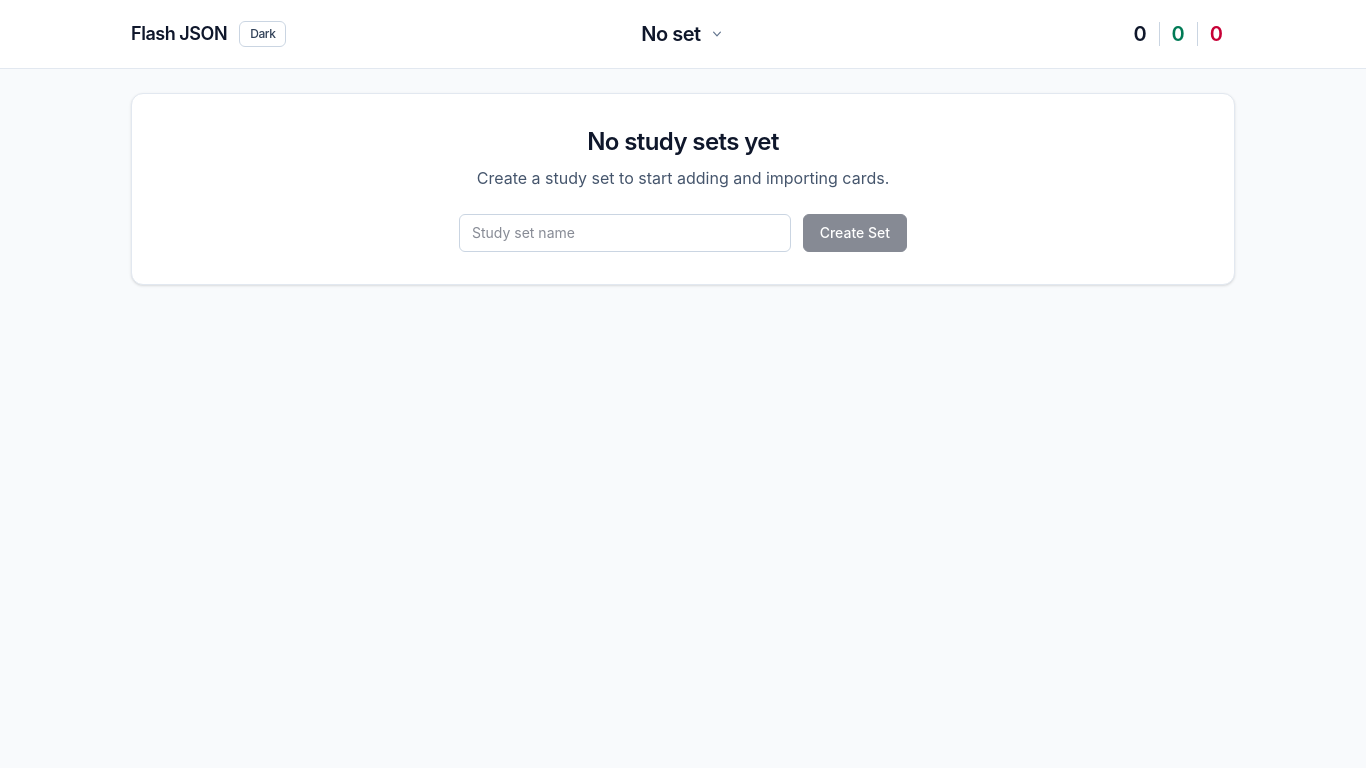
FlashcardApp with study sets › creates a set from the empty state
The width and height of the screenshot is (1366, 768).
Expected: the heading "No study sets yet" is shown, [587, 127, 779, 156]
Type "Fresh" into the field labelled "Study set name" at coordinates (625, 233), box [459, 214, 791, 252]
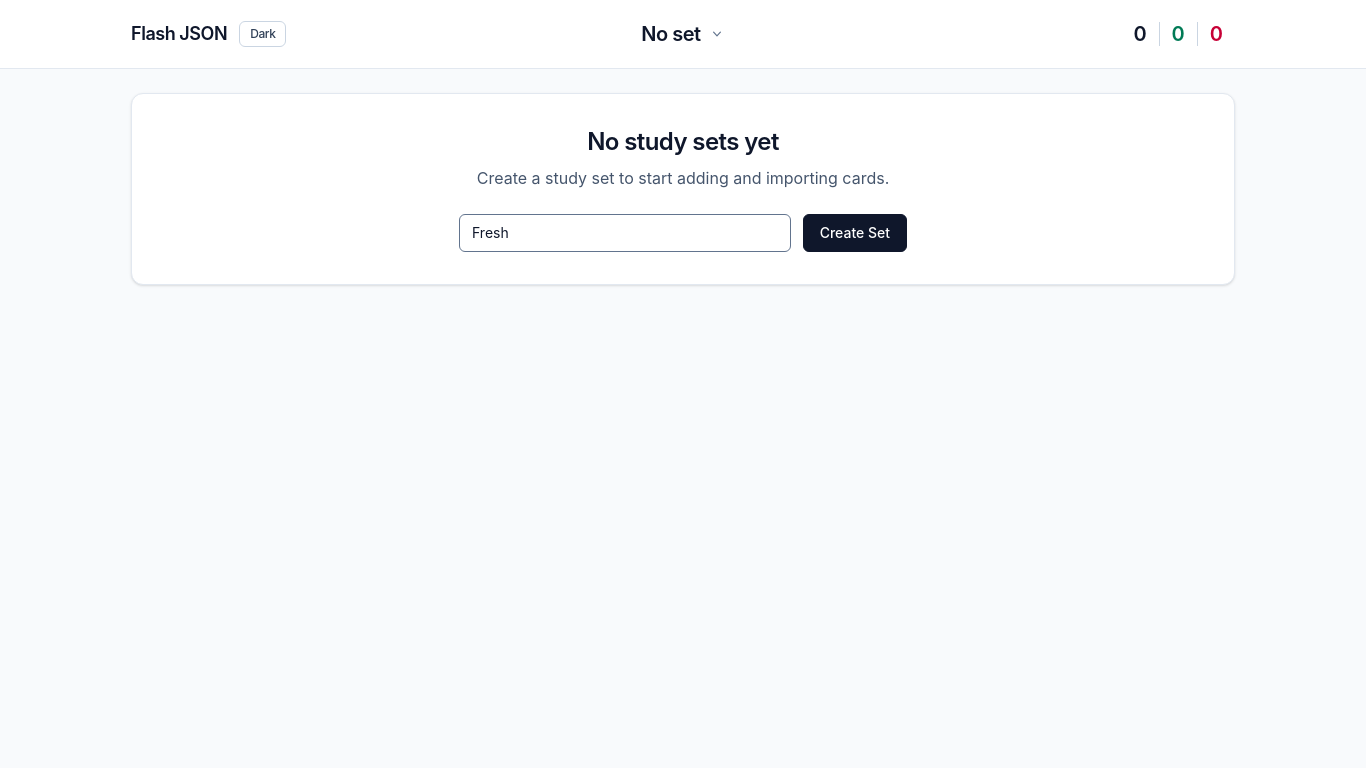
Click the button "Create Set" at coordinates (855, 233), box [803, 214, 907, 252]
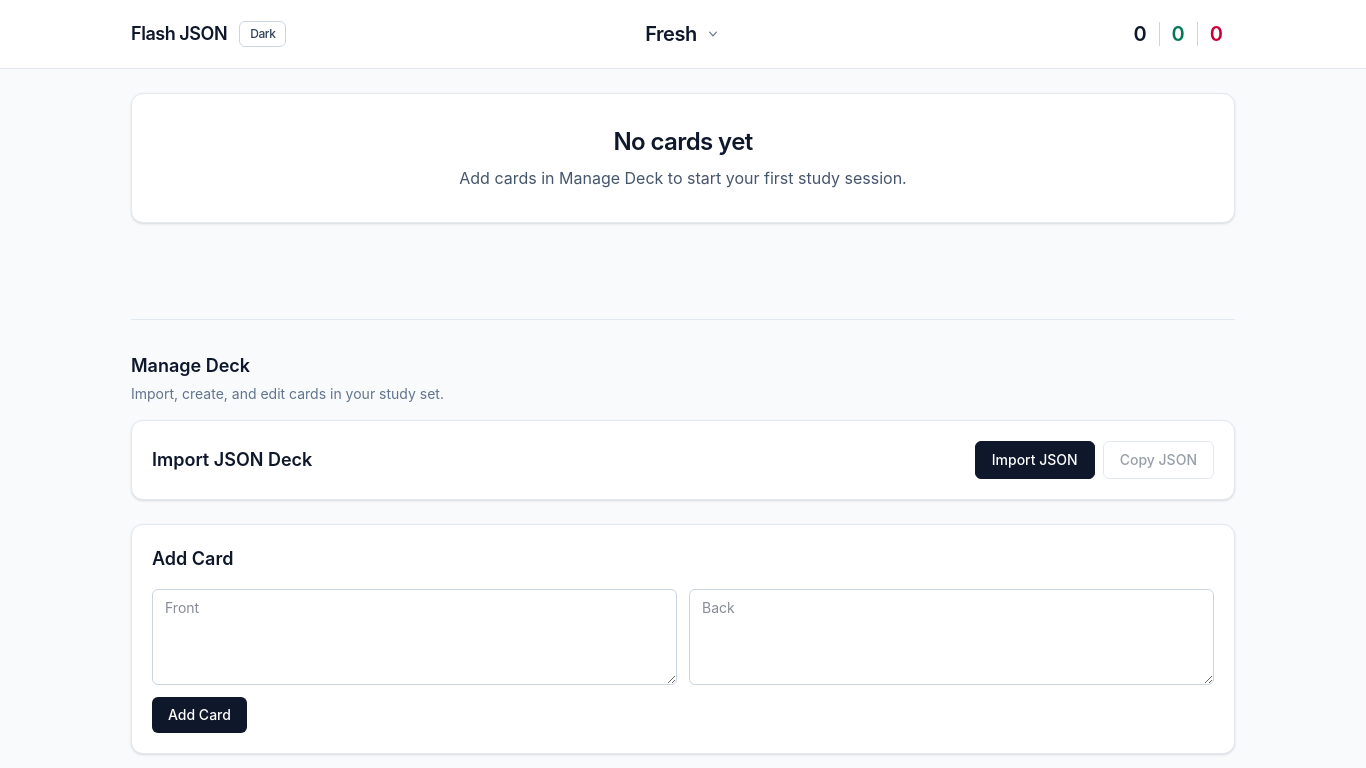
Expected: the button with aria-label "Study set:" reads "Fresh", [633, 16, 733, 52]
Expected: the heading "No study sets yet" is gone
